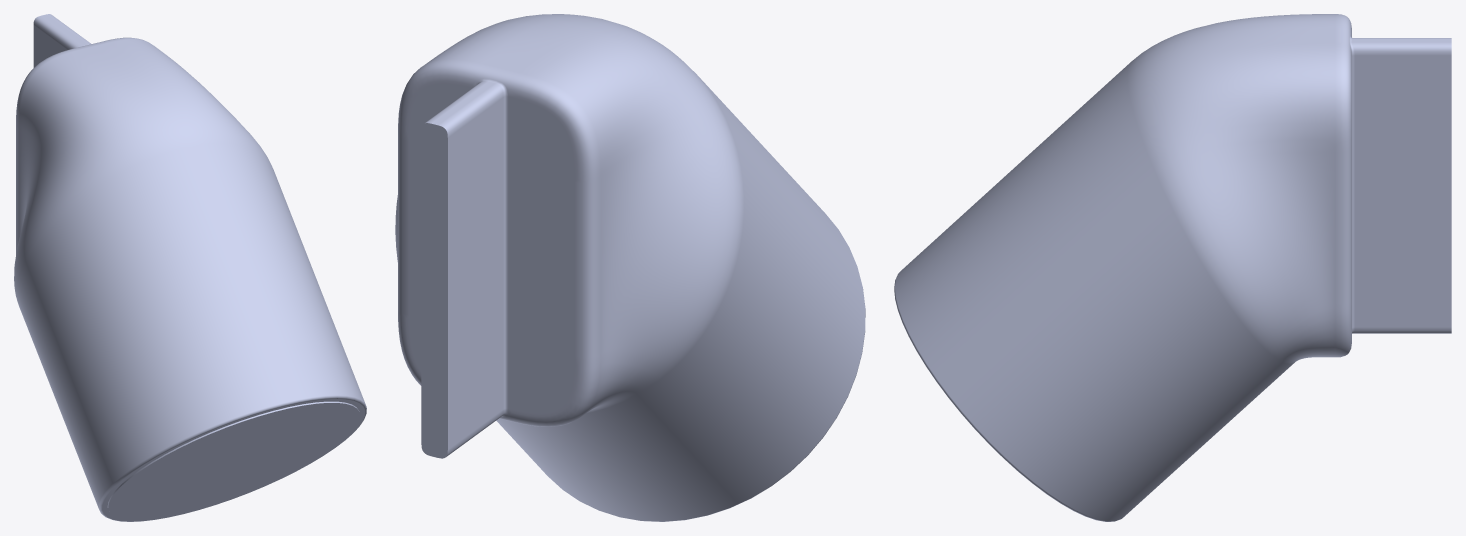
File: Link_Arm_0.obj
3 views of the same model, side by side, from view 1: azimuth 30°, elevation 25°; view 2: azimuth 150°, elevation 25°; view 3: azimuth 270°, elevation 25° (orthographic). The views are drawn at different scales.
Parts seen in each view (by area): view 1: Body1; view 2: Body1; view 3: Body1.
Part boxes in pixels (x1,y1,x2,y2): Body1: (14,14,366,521); Body1: (395,14,865,521); Body1: (894,14,1451,521).
Size of the model in its own units: 10 by 15.46 by 16.75.
